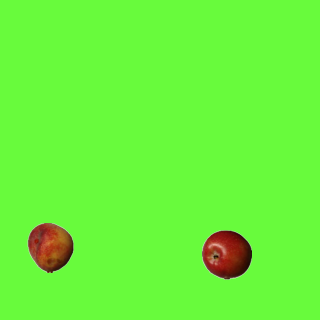Apple Braeburn: (201, 229, 251, 279)
Peach: (25, 222, 75, 272)
